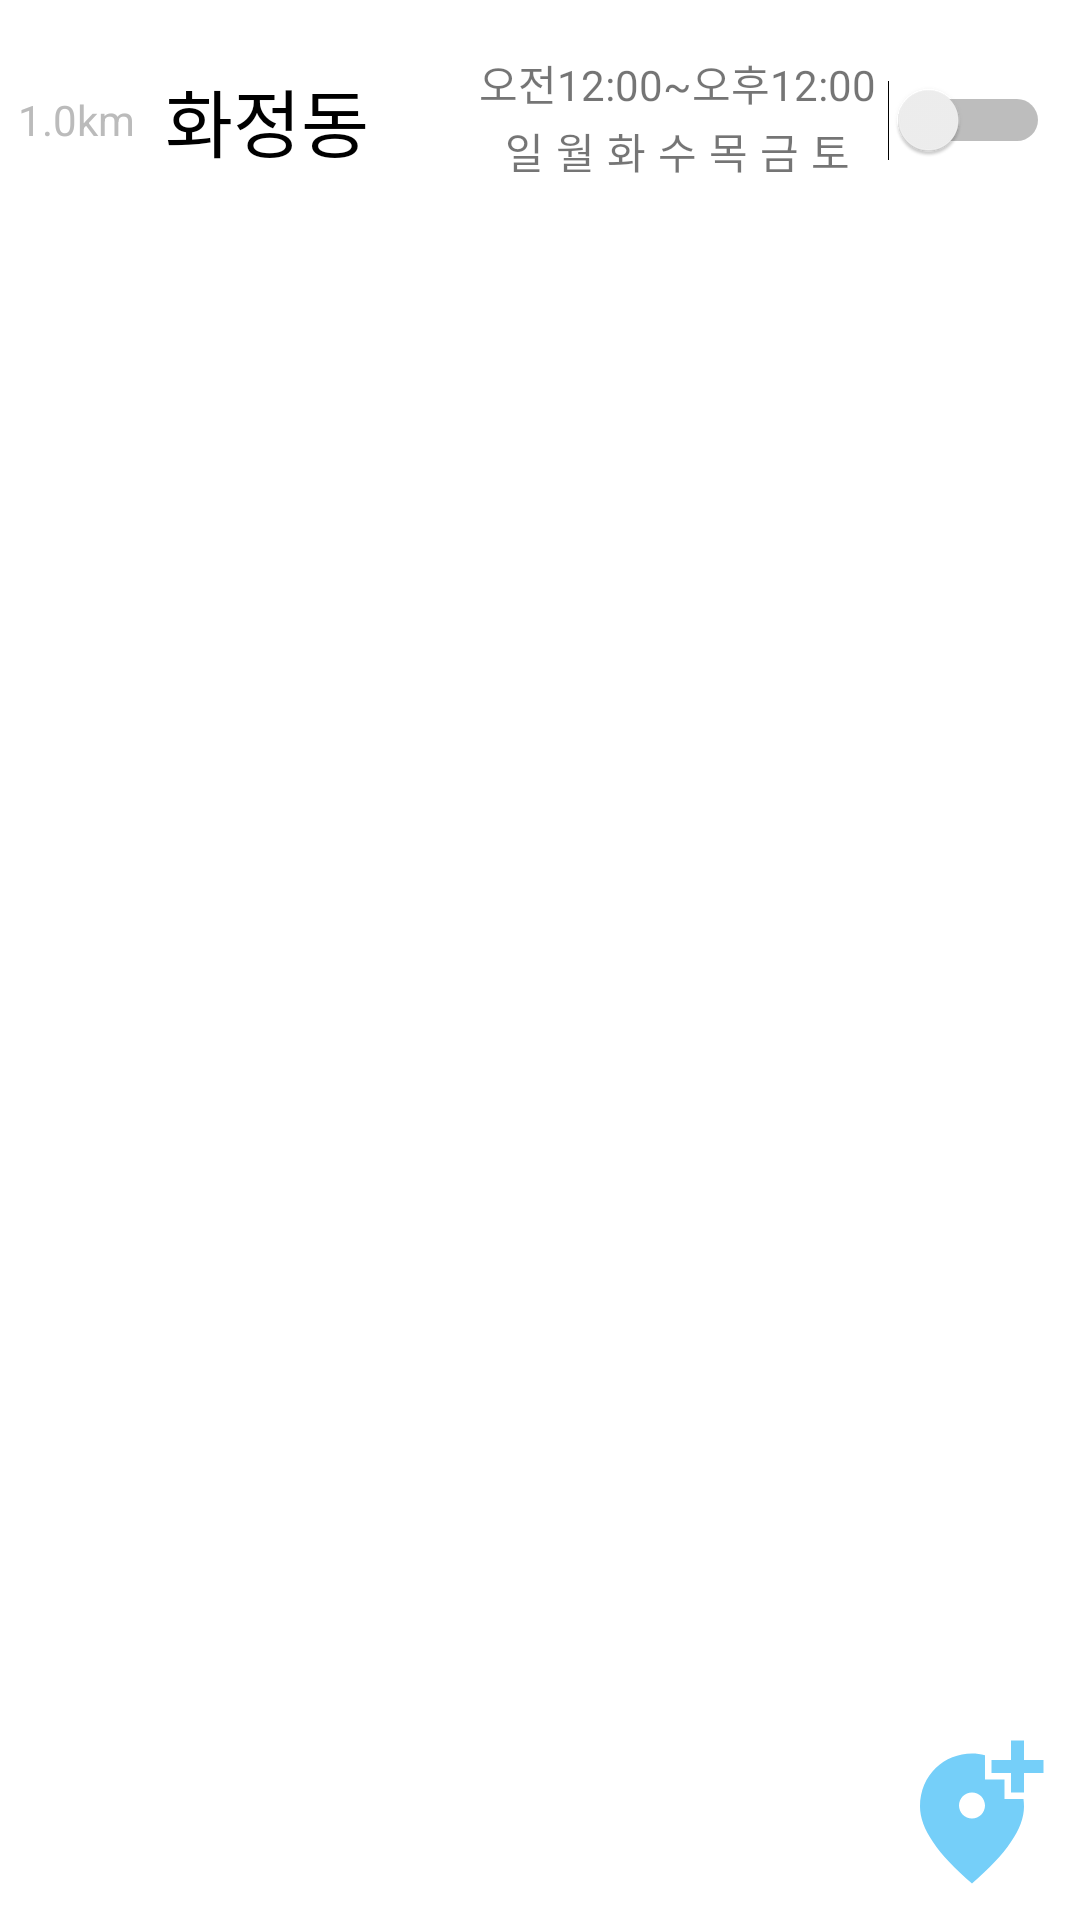

Named icons in this screenshot (1080 x 1920) and their centers, (x,y):
add location: (982,1811)
